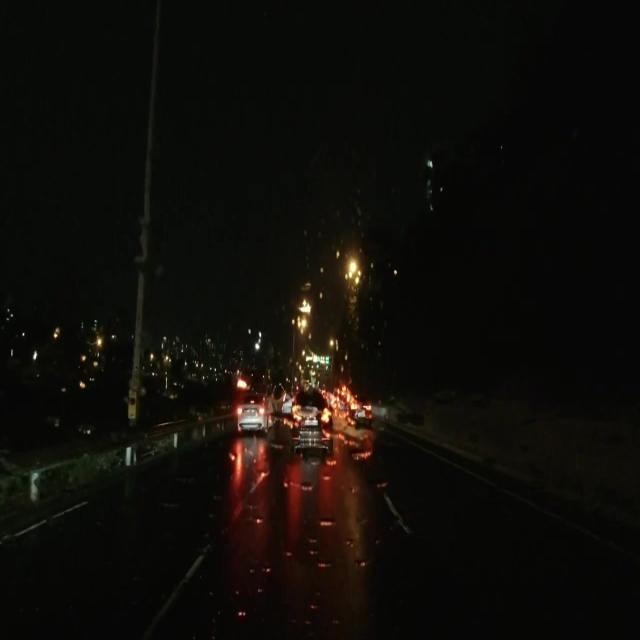Car: (291, 385, 331, 457), (235, 388, 268, 435), (348, 395, 371, 425)
